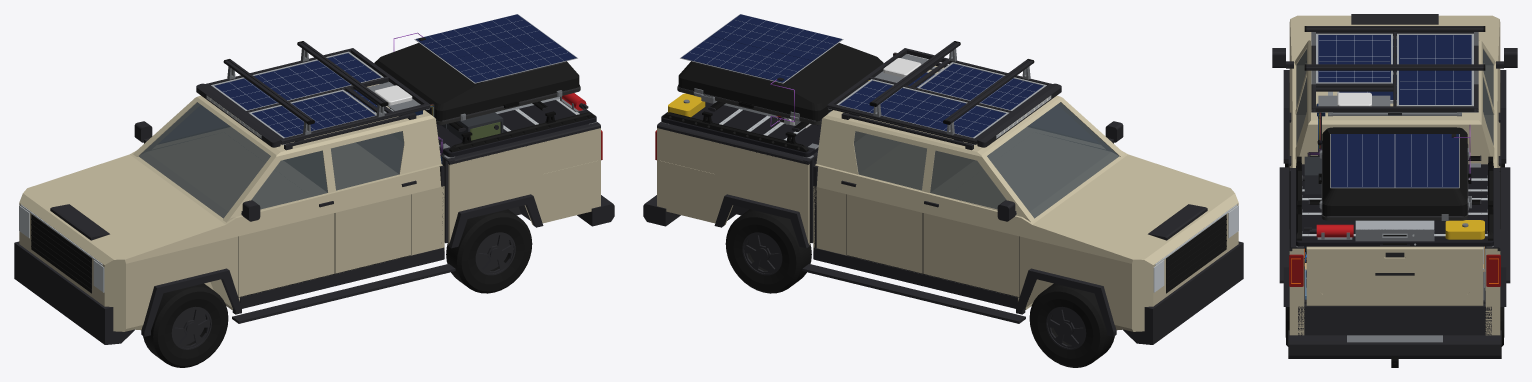
The model's file is fitout_travel.glb.
The picture shows the model from 3 angles, left to right: view 1: azimuth 30°, elevation 25°; view 2: azimuth 150°, elevation 25°; view 3: azimuth 270°, elevation 25°; orthographic projection. The views are drawn at different scales.
Parts seen in each view (by area): view 1: vehicle__cab_body, vehicle__cab_glass, vehicle__cab_body_trim, vehicle__tub_skin_passenger, tent__tent_shell, vehicle__wheel_430_-1, vehicle__wheel_-2840_-1, solar__roof_solar_190w, solar__tent_solar_1, solar__tent_solar_2, solar__roof_solar_130w, lid__load_lid (+16 smaller); view 2: vehicle__cab_body, vehicle__cab_body_trim, vehicle__cab_glass, vehicle__tub_skin_driver, tent__tent_shell, vehicle__wheel_430_1, vehicle__wheel_-2840_1, solar__roof_solar_190w, solar__tent_solar_1, solar__tent_solar_2, lid__load_lid, solar__roof_solar_130w (+16 smaller); view 3: vehicle__tailgate, vehicle__cab_body, tent__tent_shell, vehicle__cab_body_trim, vehicle__tub_underside, solar__roof_solar_190w, vehicle__rear_bumper, lid__load_lid, solar__tent_solar_1, solar__tent_solar_2, solar__roof_solar_130w, vehicle__cab_glass (+37 smaller).
Part boxes in pixels (x1,y1,x2,y2): vehicle__cab_body: (19,84,444,331); vehicle__cab_glass: (138,102,403,218); vehicle__cab_body_trim: (14,121,543,344); vehicle__tub_skin_passenger: (448,128,600,244); tent__tent_shell: (374,43,579,121); vehicle__wheel_430_-1: (446,209,532,293); vehicle__wheel_-2840_-1: (143,283,228,367); solar__roof_solar_190w: (214,53,380,109); solar__tent_solar_1: (446,36,576,82); solar__tent_solar_2: (416,14,546,60); solar__roof_solar_130w: (252,91,375,137); lid__load_lid: (436,100,596,157); vehicle__cab_body: (813,65,1238,331); vehicle__cab_body_trim: (714,121,1243,344); vehicle__cab_glass: (854,102,1119,218); vehicle__tub_skin_driver: (657,128,809,244); tent__tent_shell: (678,43,883,121); vehicle__wheel_430_1: (725,209,811,293); vehicle__wheel_-2840_1: (1029,283,1114,367); solar__roof_solar_190w: (839,80,1005,137); solar__tent_solar_1: (711,14,841,60); solar__tent_solar_2: (681,36,811,82); lid__load_lid: (661,102,821,157); solar__roof_solar_130w: (920,63,1043,109); vehicle__tailgate: (1306,246,1483,305); vehicle__cab_body: (1289,15,1500,167); tent__tent_shell: (1322,127,1467,216); vehicle__cab_body_trim: (1272,14,1517,306); vehicle__tub_underside: (1298,303,1491,335); solar__roof_solar_190w: (1399,35,1471,104); vehicle__rear_bumper: (1288,330,1501,358); lid__load_lid: (1296,164,1493,246); solar__tent_solar_1: (1331,134,1394,187); solar__tent_solar_2: (1395,134,1458,187); solar__roof_solar_130w: (1318,35,1390,82); vehicle__cab_glass: (1296,49,1493,145).
Bounding box in the file's own units: 5.55 × 2.15 × 2.13.
